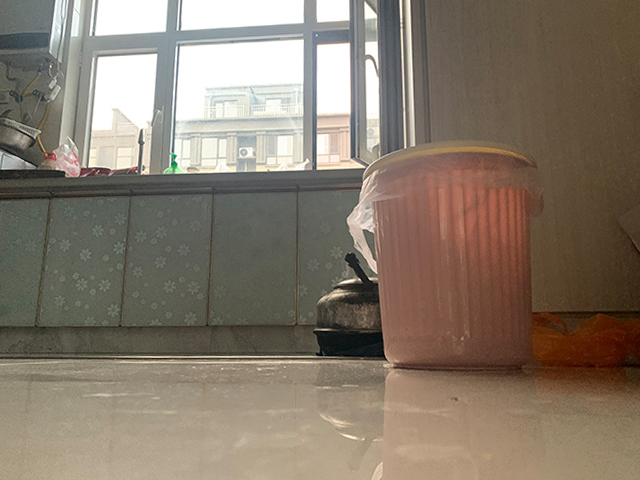cabinet: (1, 177, 318, 354)
trashcan: (361, 137, 539, 371)
